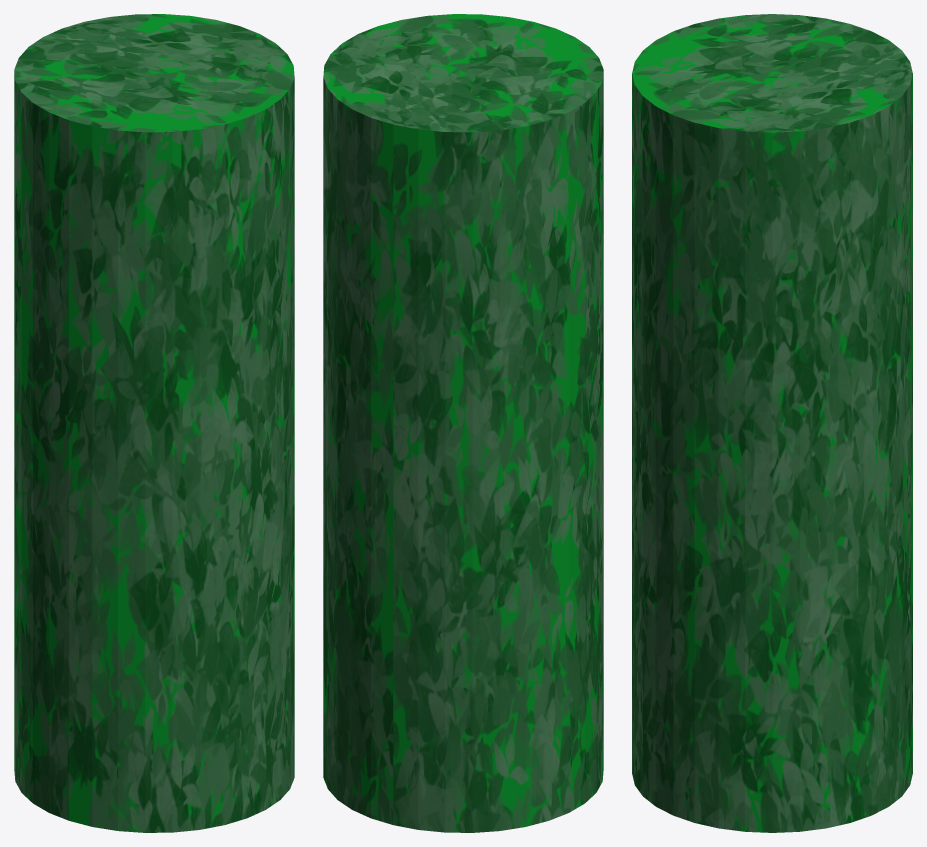
Rendered from vine.obj.
The picture shows the model from 3 angles, left to right: view 1: azimuth 30°, elevation 25°; view 2: azimuth 150°, elevation 25°; view 3: azimuth 270°, elevation 25°; orthographic projection.
Visible parts, largest first — view 1: 円柱; view 2: 円柱; view 3: 円柱.
Boxes of the visible parts, box(x1,y1,x2,y2) form: 円柱: box(14, 14, 294, 832); 円柱: box(323, 14, 603, 832); 円柱: box(632, 14, 912, 832).
Size of the model in its own units: 0.351 by 0.9661 by 0.351.
1 material, 1 textured.
